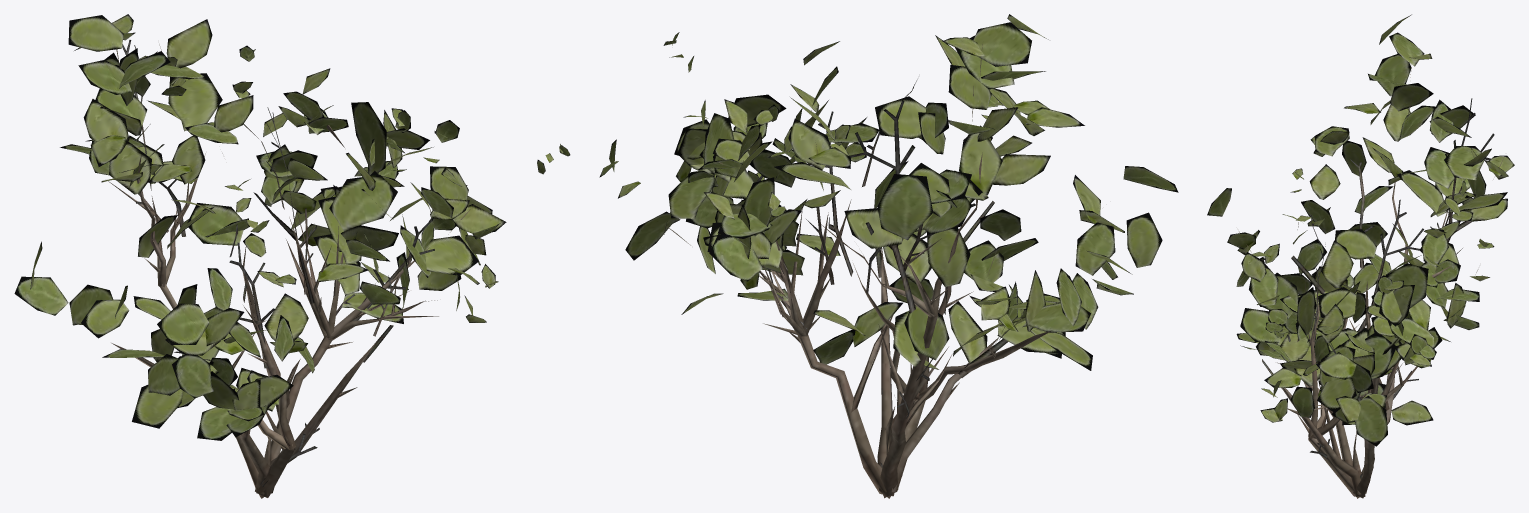
File: arbuste_searsia_e_lod1.glb
The picture shows the model from 3 angles, left to right: view 1: azimuth 30°, elevation 25°; view 2: azimuth 150°, elevation 25°; view 3: azimuth 270°, elevation 25°; orthographic projection. The views are drawn at different scales.
Parts seen in each view (by area): view 1: searsia_lucida_e_LOD0; view 2: searsia_lucida_e_LOD0; view 3: searsia_lucida_e_LOD0.
Part boxes in pixels (x1,y1,x2,y2): searsia_lucida_e_LOD0: (14,14,570,498); searsia_lucida_e_LOD0: (599,14,1178,498); searsia_lucida_e_LOD0: (1207,14,1514,498).
Size of the model in its own units: 1.03 by 0.9837 by 0.6529.
Materials: 2 (2 with a texture image).
